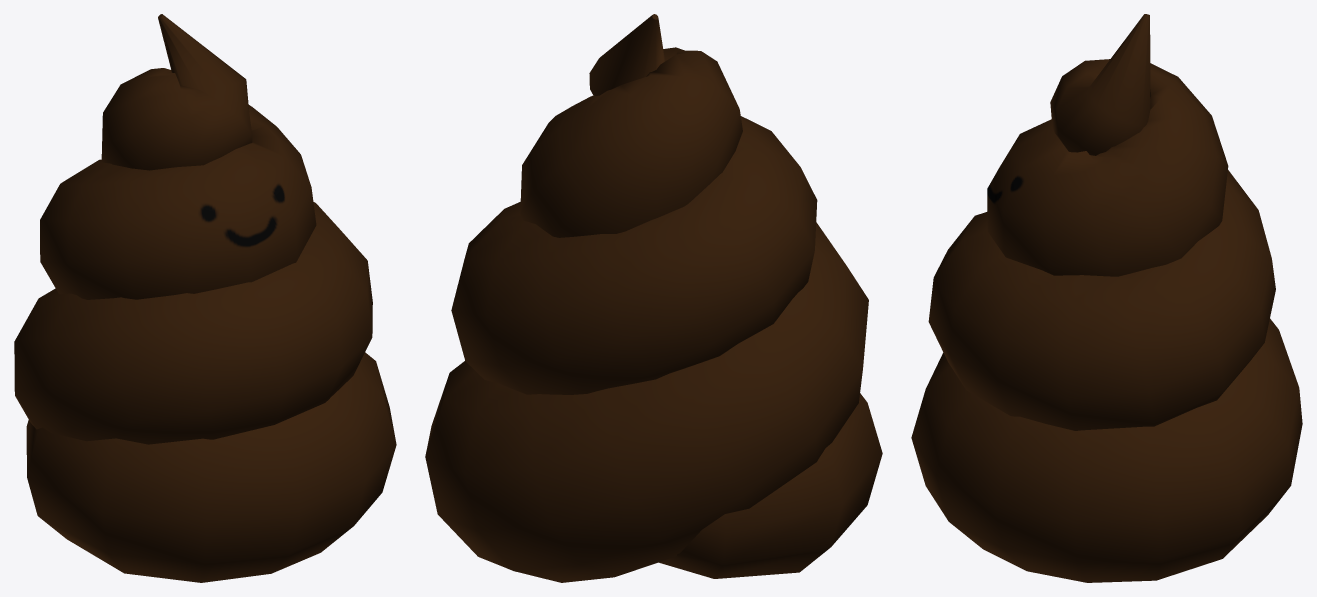
File: PooFriend-003.fbx
The picture shows the model from 3 angles, left to right: view 1: azimuth 30°, elevation 25°; view 2: azimuth 150°, elevation 25°; view 3: azimuth 270°, elevation 25°; orthographic projection. The views are drawn at different scales.
Visible parts, largest first — view 1: PooFriend-003; view 2: PooFriend-003; view 3: PooFriend-003.
Part boxes in pixels (x1,y1,x2,y2): PooFriend-003: (14,14,396,582); PooFriend-003: (425,14,882,582); PooFriend-003: (911,14,1302,582).
Size of the model in its own units: 1.19 by 1.69 by 1.18.
1 material, 1 textured.
